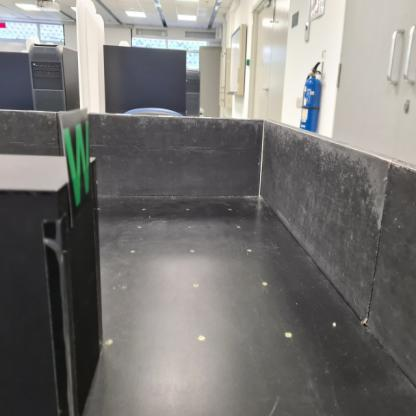w: (58, 106, 95, 226)
